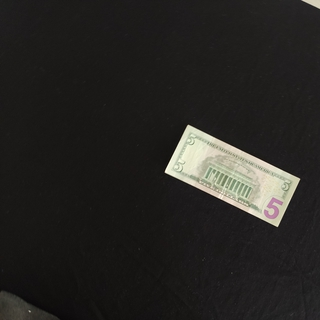5USDBack: (163, 123, 301, 227)
